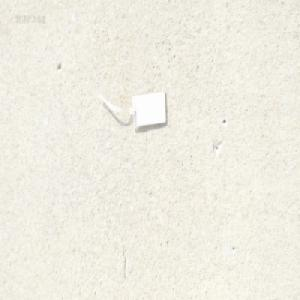LuggageTag: (97, 73, 168, 131)
